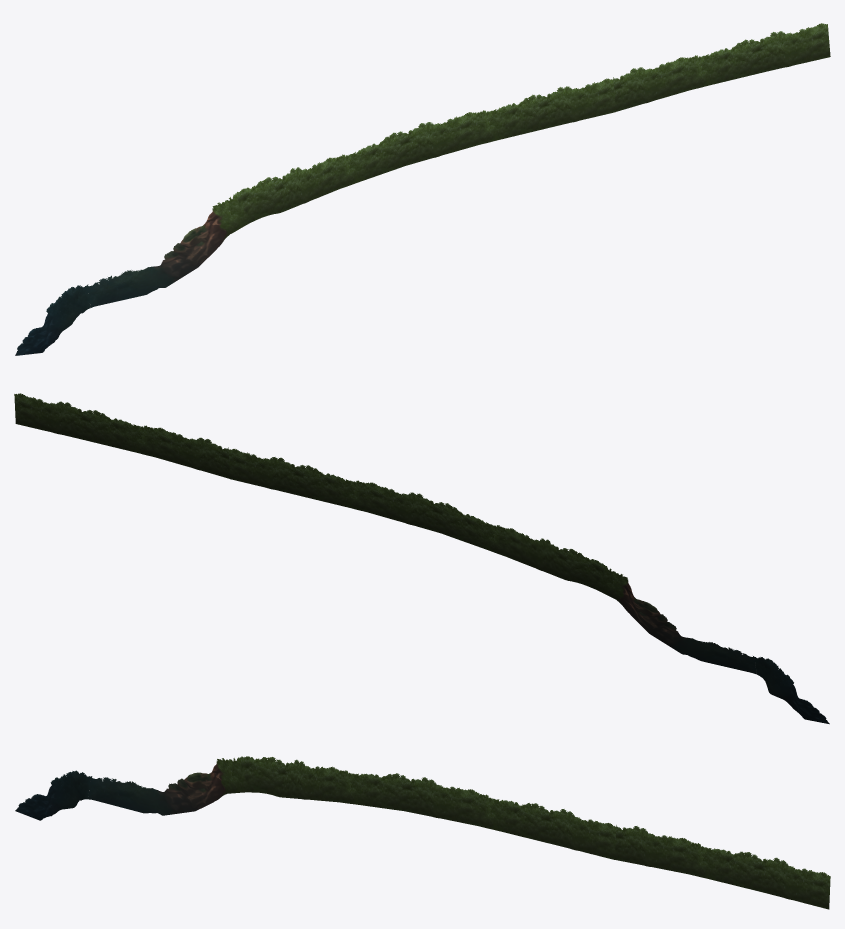
File: Dark Forest Landscape FG Part 5.FBX
The picture shows the model from 3 angles, top to bottom: view 1: azimuth 30°, elevation 25°; view 2: azimuth 150°, elevation 25°; view 3: azimuth 330°, elevation 25°; orthographic projection.
Visible parts, largest first — view 1: Grass Landscape FG Part 5; view 2: Grass Landscape FG Part 5; view 3: Grass Landscape FG Part 5.
Part boxes in pixels (box(x1,y1,x2,y2)): Grass Landscape FG Part 5: box(15, 23, 830, 355); Grass Landscape FG Part 5: box(14, 393, 829, 724); Grass Landscape FG Part 5: box(15, 756, 830, 909).
Bounding box in the file's own units: 9923 × 109 × 1689.
